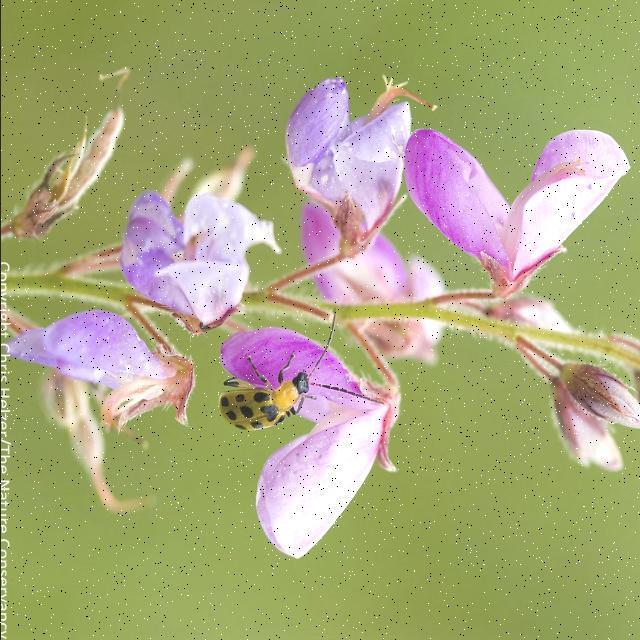gusano_verde: (219, 308, 372, 431)
